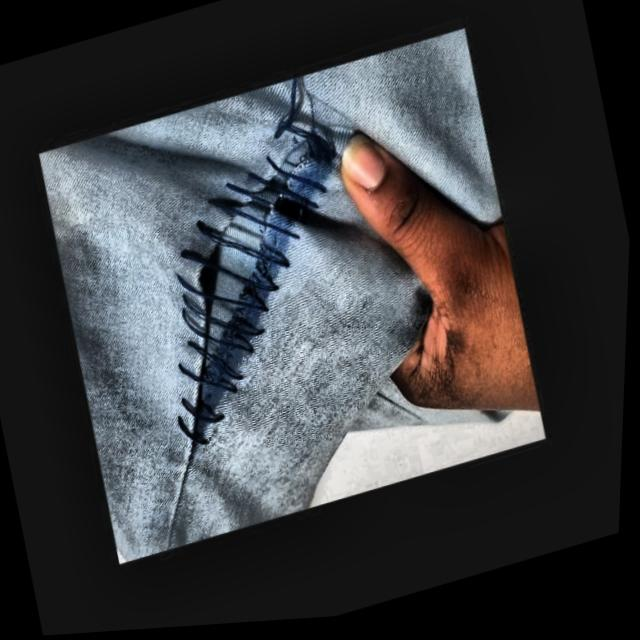Stitch: (95, 71, 406, 492)
